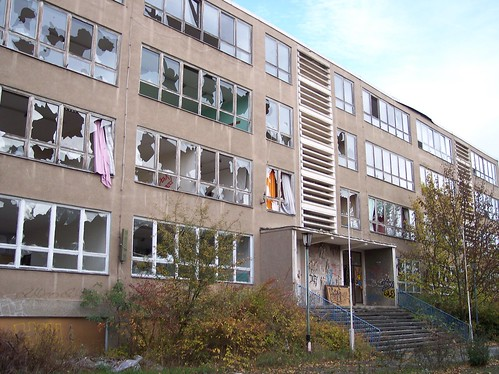building: (13, 1, 499, 353)
window: (1, 181, 111, 276), (1, 93, 121, 180), (135, 51, 254, 135), (131, 125, 247, 211), (1, 1, 116, 84), (135, 215, 257, 285), (139, 1, 254, 67), (365, 142, 417, 192), (257, 161, 297, 221), (360, 93, 411, 139), (365, 196, 416, 234), (263, 35, 295, 88), (260, 100, 297, 145), (414, 127, 455, 162), (337, 184, 364, 236), (332, 73, 357, 118), (334, 130, 355, 172)
